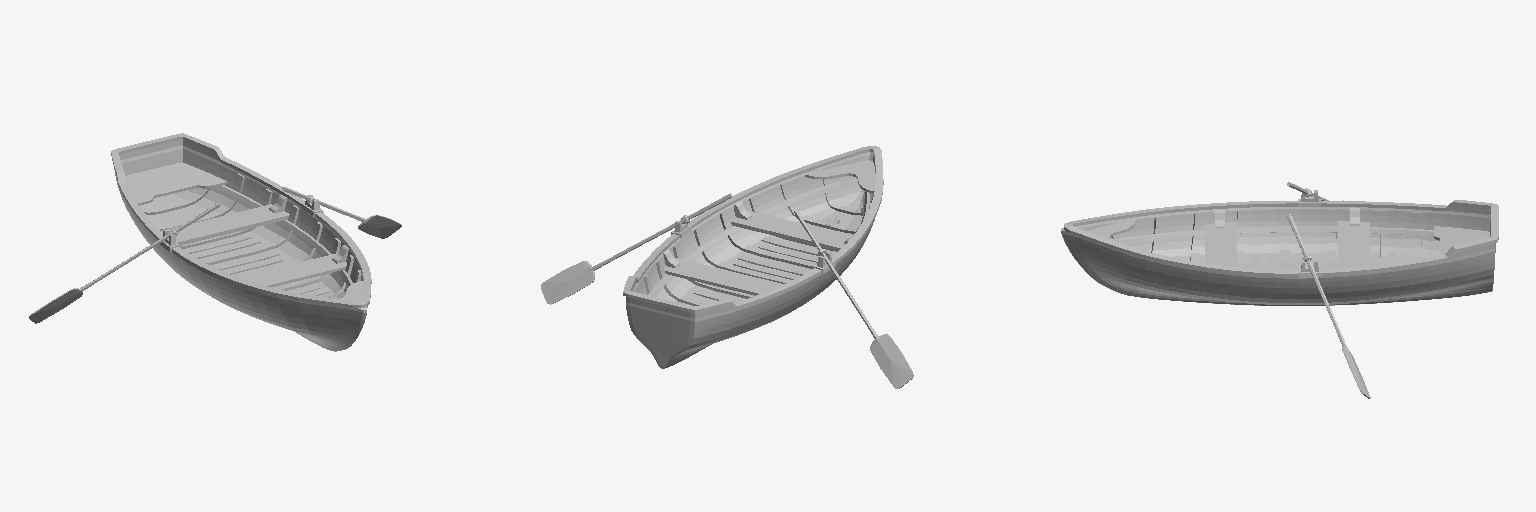
The model's file is boat.obj.
3 renders of one model, left to right at view 1: azimuth 30°, elevation 25°; view 2: azimuth 150°, elevation 25°; view 3: azimuth 270°, elevation 25°, orthographic.
Parts seen in each view (by area): view 1: Cube.003_low.001_Material_0, Cube.025_low.001_Material_0, Cube.019_low.001_Material_0, Cylinder_low.001_Material_0, Cube.027_low.001_Material_0; view 2: Cube.003_low.001_Material_0, Cube.025_low.001_Material_0, Cylinder_low.001_Material_0, Cube.019_low.001_Material_0, Cube.027_low.001_Material_0, Cube.014_low.001_Material_0; view 3: Cube.003_low.001_Material_0, Cube.025_low.001_Material_0, Cube.019_low.001_Material_0, Cube.027_low.001_Material_0, Cylinder_low.001_Material_0.
Boxes of the visible parts, box(x1,y1,x2,y2) form: Cube.003_low.001_Material_0: box(111, 133, 371, 351); Cube.025_low.001_Material_0: box(125, 162, 363, 300); Cube.019_low.001_Material_0: box(156, 173, 361, 297); Cylinder_low.001_Material_0: box(29, 187, 401, 323); Cube.027_low.001_Material_0: box(214, 185, 352, 286); Cube.003_low.001_Material_0: box(623, 146, 883, 368); Cube.025_low.001_Material_0: box(664, 160, 875, 295); Cylinder_low.001_Material_0: box(541, 193, 913, 388); Cube.019_low.001_Material_0: box(643, 179, 873, 305); Cube.027_low.001_Material_0: box(648, 181, 869, 296); Cube.014_low.001_Material_0: box(720, 211, 816, 268); Cube.003_low.001_Material_0: box(1061, 190, 1498, 305); Cube.025_low.001_Material_0: box(1087, 219, 1489, 268); Cube.019_low.001_Material_0: box(1111, 209, 1421, 269); Cube.027_low.001_Material_0: box(1115, 226, 1433, 243); Cylinder_low.001_Material_0: box(1287, 182, 1370, 398).
Size of the model in its own units: 6.59 by 1.96 by 6.72.